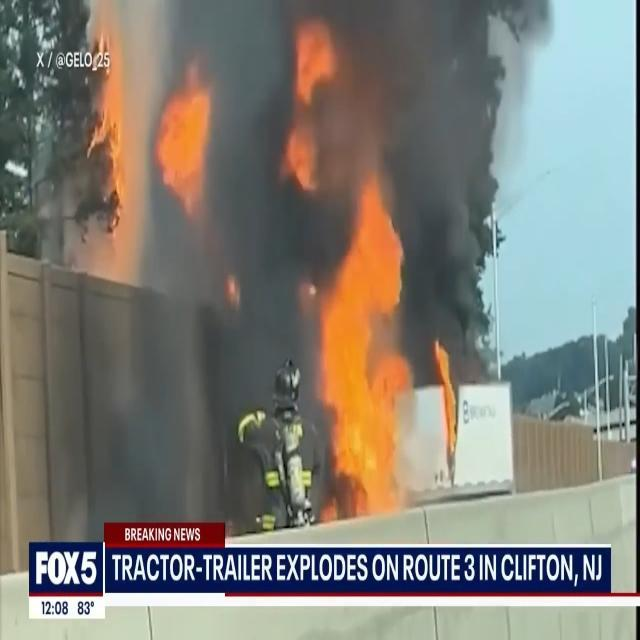fire: (322, 220, 402, 521), (81, 38, 140, 229), (150, 99, 234, 207), (296, 29, 343, 93), (288, 124, 325, 198)
